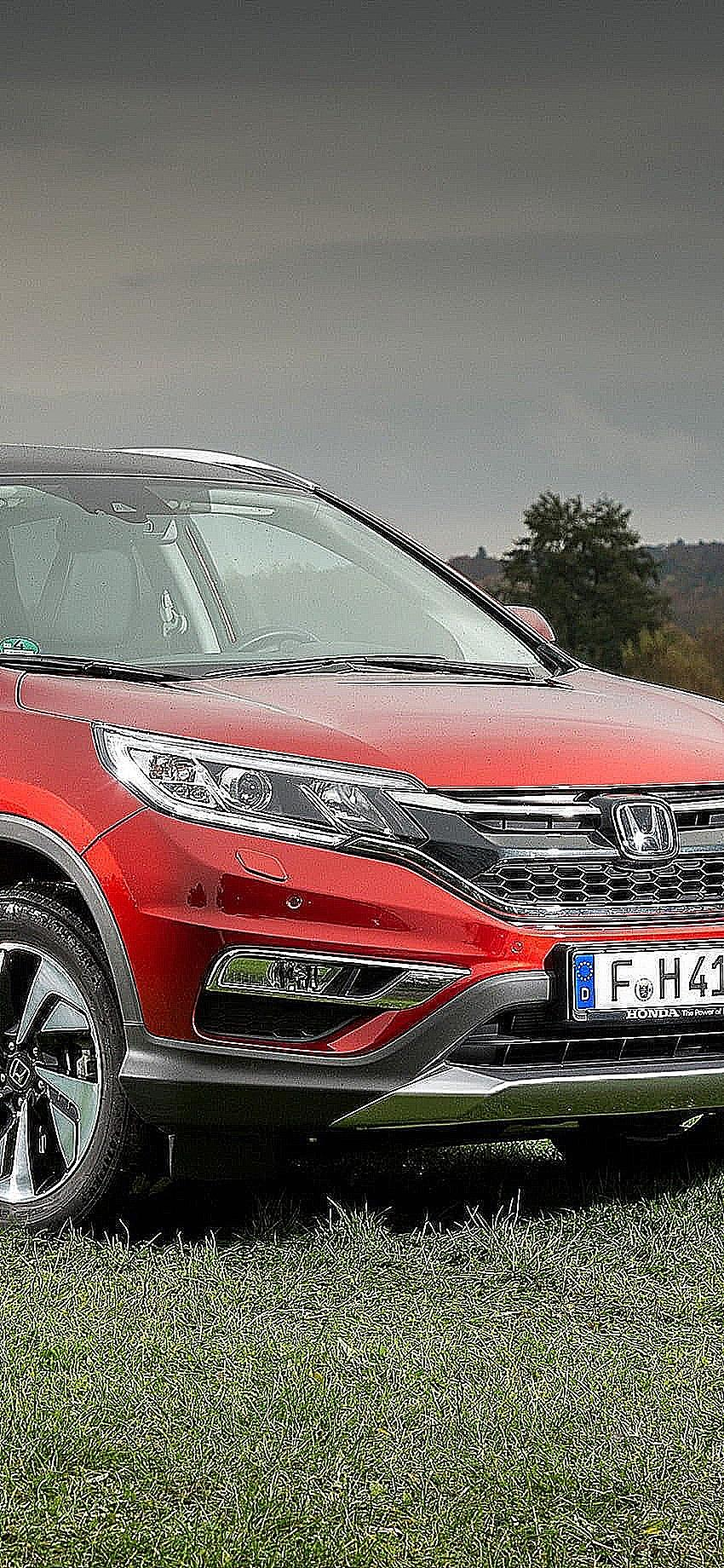Car hood: (0, 651, 724, 811)
Front bumper: (49, 801, 724, 1142)
Headlight - -R-: (94, 722, 454, 859)
